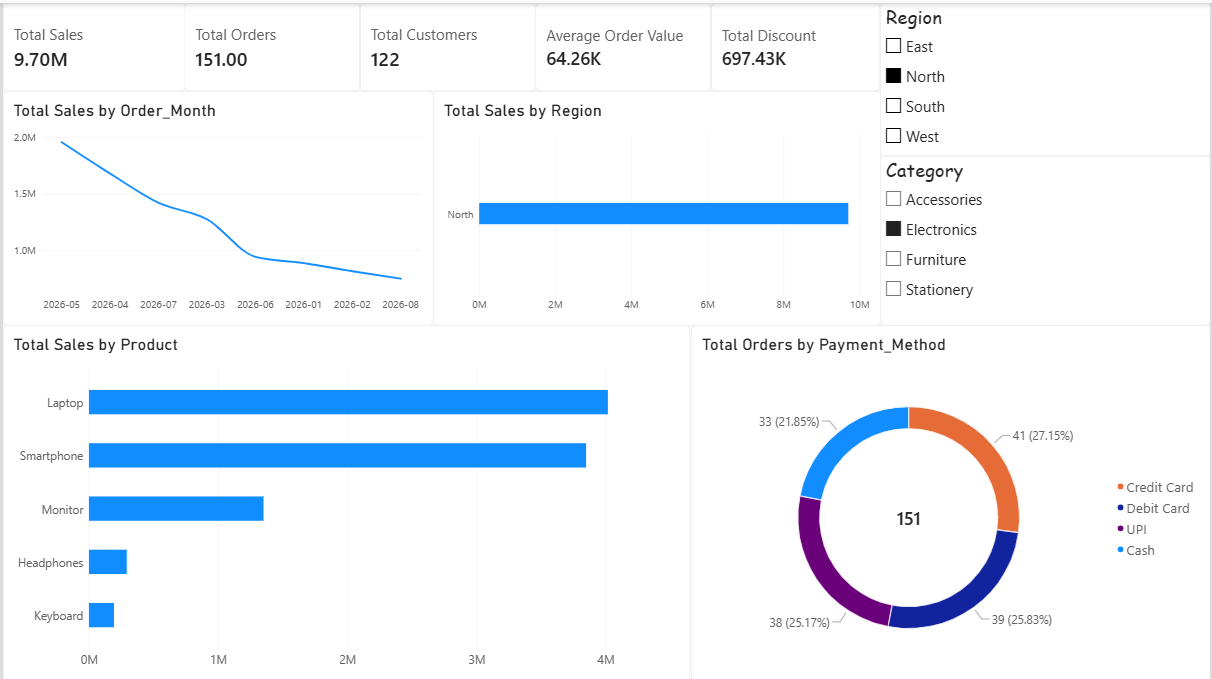

What the dashboard file says about the page in this screenshot:
{"tool":"powerbi","page":{"name":"Automated Business Reporting Dashboard","canvas":[1920,1080],"ordinal":0},"visuals":[{"type":"cardVisual","fields":{"Data":["automated_reporting sales.Total Sales"]},"box":[0,0,291.1,140.8],"z":0},{"type":"cardVisual","fields":{"Data":["automated_reporting sales.Total Customers"]},"box":[567.8,0,279.2,140.8],"z":1000},{"type":"cardVisual","fields":{"Data":["automated_reporting sales.Total Orders"]},"box":[288.7,0,279.2,140.8],"z":2000},{"type":"cardVisual","fields":{"Data":["automated_reporting sales.Average Order Value"]},"box":[847,0,279.2,140.8],"z":3000},{"type":"lineChart","title":"Total Sales by Order_Month","fields":{"Category":["automated_reporting sales.Order_Month"],"Y":["automated_reporting sales.Total Sales"]},"box":[0,140.8,684.8,372.2],"z":4000},{"type":"clusteredBarChart","fields":{"Category":["automated_reporting sales.Region"],"Y":["automated_reporting sales.Total Sales"]},"box":[684.8,140.8,711,372.2],"z":5000},{"type":"clusteredBarChart","title":"Total Sales by Product","fields":{"Category":["automated_reporting sales.Product"],"Y":["automated_reporting sales.Total Sales"]},"box":[0,513,1092.7,567.8],"z":6000},{"type":"slicer","fields":{"Values":["automated_reporting sales.Region"]},"box":[1395.8,0,524.9,243.4],"z":7000},{"type":"cardVisual","fields":{"Data":["automated_reporting sales.Total Discount"]},"box":[1126.2,0,269.6,140.8],"z":8000},{"type":"donutChart","title":"Total Orders by Payment_Method","fields":{"Category":["automated_reporting sales.Payment_Method"],"Y":["automated_reporting sales.Total Orders"]},"box":[1095.1,513,825.5,567.8],"z":9000},{"type":"slicer","fields":{"Values":["automated_reporting sales.Category"]},"box":[1395.8,243.4,524.9,269.6],"z":10000}]}

Visuals, with their boxes in screenshot pixels (x1, y1, x2, y2), scaled from the page's 1920x1080 canvas onto the 1212x679 screenshot:
cardVisual - automated_reporting sales.Total Sales: box(0, 0, 184, 89)
cardVisual - automated_reporting sales.Total Customers: box(358, 0, 535, 89)
cardVisual - automated_reporting sales.Total Orders: box(182, 0, 358, 89)
cardVisual - automated_reporting sales.Average Order Value: box(535, 0, 711, 89)
"Total Sales by Order_Month" lineChart: box(0, 89, 432, 323)
clusteredBarChart - automated_reporting sales.Region x automated_reporting sales.Total Sales: box(432, 89, 881, 323)
"Total Sales by Product" clusteredBarChart: box(0, 323, 690, 678)
slicer - automated_reporting sales.Region: box(881, 0, 1211, 153)
cardVisual - automated_reporting sales.Total Discount: box(711, 0, 881, 89)
"Total Orders by Payment_Method" donutChart: box(691, 323, 1211, 678)
slicer - automated_reporting sales.Category: box(881, 153, 1211, 323)
